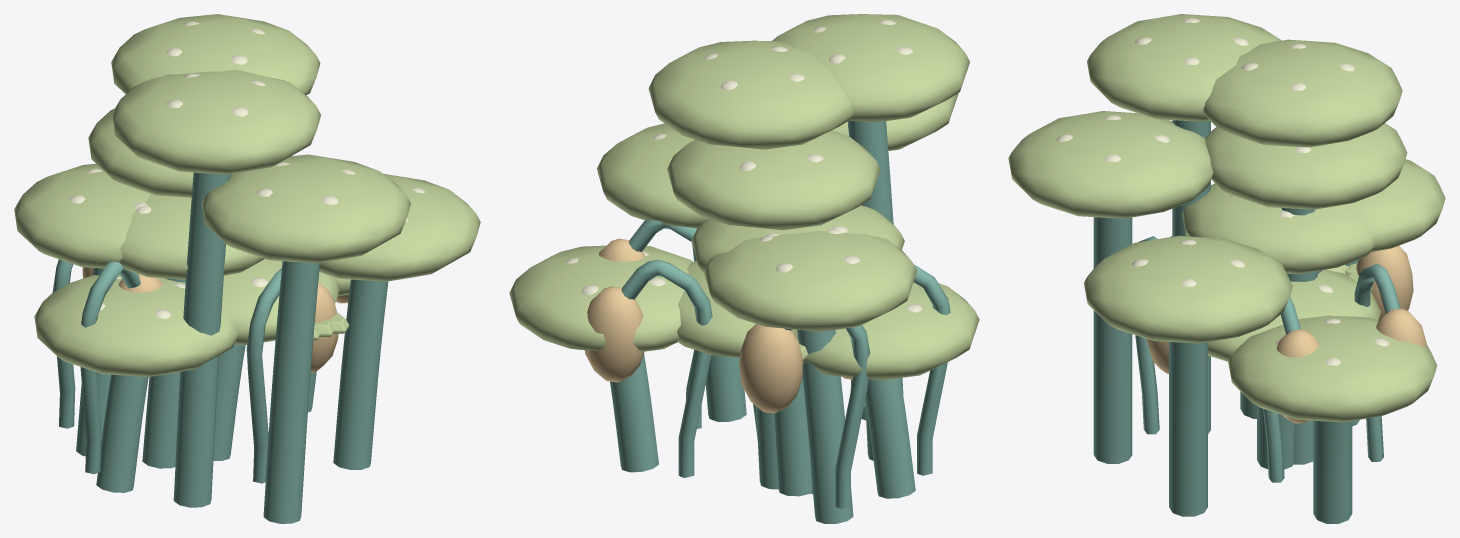
The model's file is bio_spore_fungus_23_far.glb.
3 renders of one model, left to right at view 1: azimuth 30°, elevation 25°; view 2: azimuth 150°, elevation 25°; view 3: azimuth 270°, elevation 25°, orthographic. The views are drawn at different scales.
Parts seen in each view (by area): view 1: Thick umbrella cap.007, Thick umbrella cap.002, Thick umbrella cap.004, Thick umbrella cap.003, Curved stipe.007, Curved stipe.002, Thick umbrella cap.001, Thick umbrella cap.005, Curved stipe.005, Thick umbrella cap.009, Curved stipe.004, Thick umbrella cap.006 (+9 smaller); view 2: Thick umbrella cap.003, Thick umbrella cap.001, Thick umbrella cap.006, Thick umbrella cap.007, Thick umbrella cap.008, Thick umbrella cap.004, Thick umbrella cap.005, Curved stipe.001, Pendant spore capsule.001, Curved stipe.004, Arched fruit stem.003, Pendant spore capsule.003 (+12 smaller); view 3: Thick umbrella cap.005, Thick umbrella cap.002, Thick umbrella cap.003, Thick umbrella cap.008, Thick umbrella cap.007, Thick umbrella cap.006, Thick umbrella cap.009, Curved stipe.002, Curved stipe.005, Thick umbrella cap.001, Curved stipe.008, Thick umbrella cap (+10 smaller).
Part boxes in pixels (box(x1,y1,x2,y2)): Thick umbrella cap.007: box(112, 70, 320, 174); Thick umbrella cap.002: box(201, 154, 410, 263); Thick umbrella cap.004: box(34, 274, 238, 376); Thick umbrella cap.003: box(111, 14, 320, 95); Curved stipe.007: box(173, 172, 230, 507); Curved stipe.002: box(263, 261, 319, 523); Thick umbrella cap.001: box(14, 163, 150, 268); Thick umbrella cap.005: box(319, 173, 480, 281); Curved stipe.005: box(333, 279, 388, 469); Thick umbrella cap.009: box(120, 194, 264, 279); Curved stipe.004: box(96, 374, 148, 492); Thick umbrella cap.006: box(88, 108, 292, 197); Thick umbrella cap.003: box(648, 40, 853, 149); Thick umbrella cap.001: box(703, 231, 916, 331); Thick umbrella cap.006: box(667, 130, 880, 230); Thick umbrella cap.007: box(772, 14, 969, 122); Thick umbrella cap.008: box(509, 245, 692, 351); Thick umbrella cap.004: box(792, 282, 979, 380); Thick umbrella cap.005: box(597, 123, 707, 228); Curved stipe.001: box(797, 329, 853, 523); Pendant spore capsule.001: box(739, 324, 803, 413); Curved stipe.004: box(865, 378, 915, 498); Arched fruit stem.003: box(621, 259, 712, 477); Pendant spore capsule.003: box(584, 286, 644, 382); Thick umbrella cap.005: box(1083, 235, 1292, 343); Thick umbrella cap.002: box(1008, 111, 1213, 218); Thick umbrella cap.003: box(1203, 39, 1402, 147); Thick umbrella cap.008: box(1228, 315, 1437, 422); Thick umbrella cap.007: box(1087, 14, 1281, 121); Thick umbrella cap.006: box(1205, 123, 1407, 209); Thick umbrella cap.009: box(1182, 183, 1375, 274); Curved stipe.002: box(1093, 217, 1132, 463); Curved stipe.005: box(1169, 342, 1207, 516); Thick umbrella cap.001: box(1343, 159, 1445, 251); Curved stipe.008: box(1313, 420, 1352, 523); Thick umbrella cap: box(1208, 269, 1380, 361).
Size of the model in its own units: 2.01 by 1.97 by 1.92.
